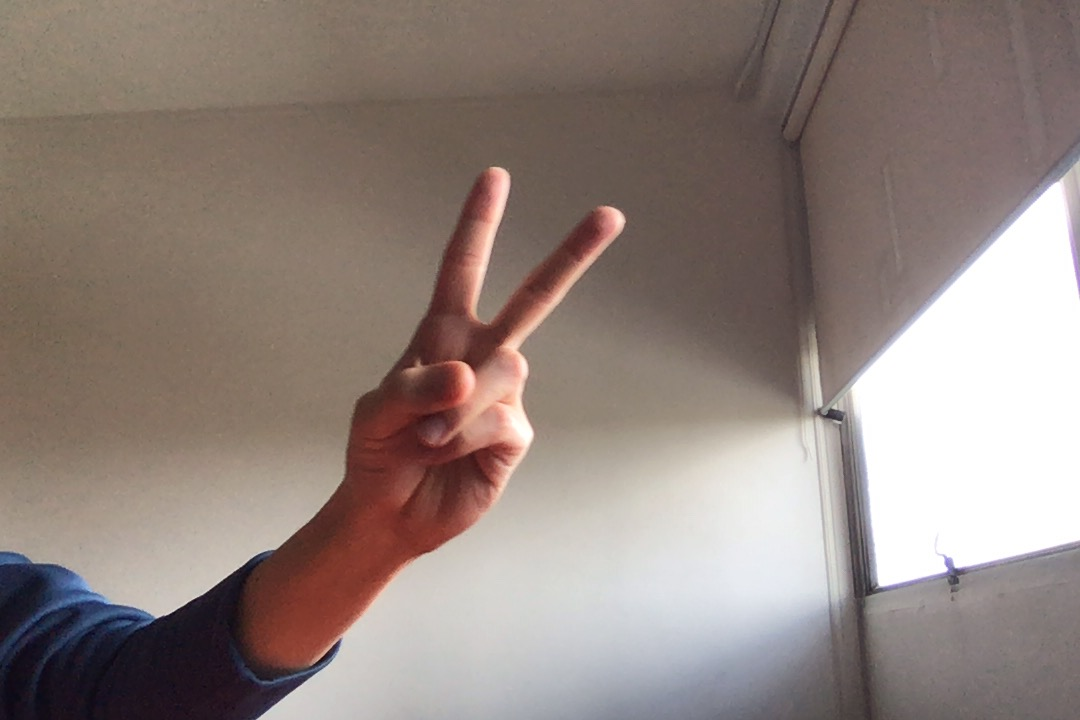peacesign: (330, 158, 636, 564)
